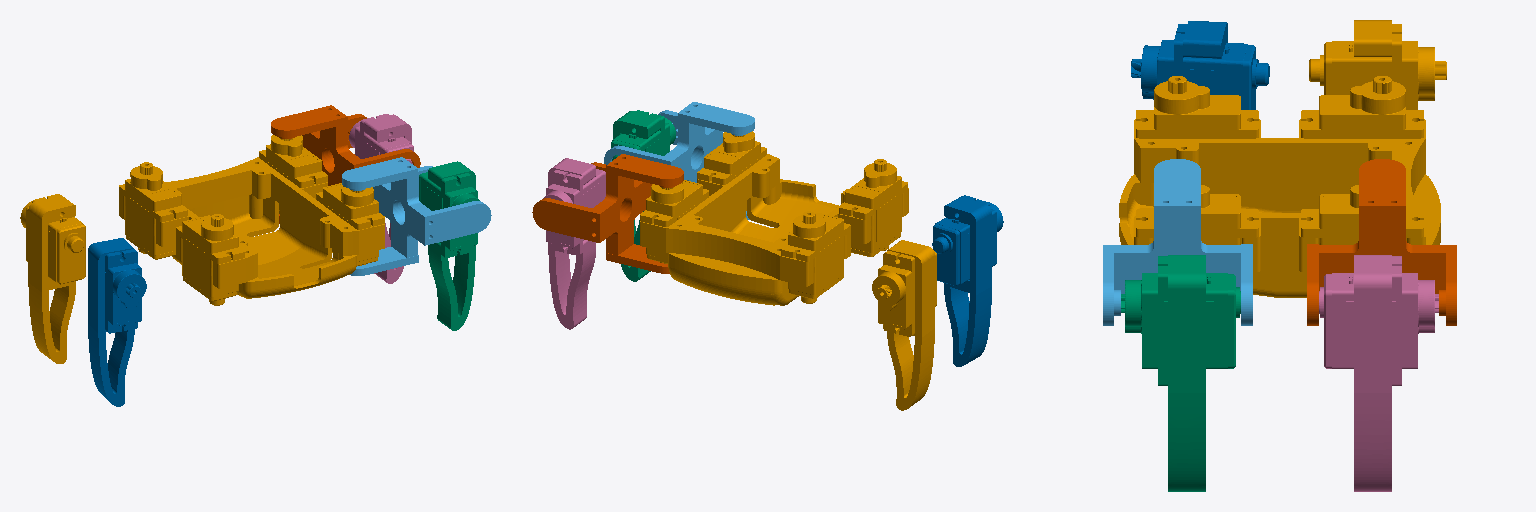
The robot description file, URDF, robot "Q1_Assembly":
<?xml version='1.0' encoding='utf-8'?>
<robot name="Q1_Assembly">
    <link name="BASE">
        <inertial>
            <origin xyz="-8.142039538314067e-06 0.005027753135309843 -0.0012258414928178138" rpy="0.0 0.0 0.0" />
            <mass value="0.27483386601342913" />
            <inertia ixx="0.00019667744361528635" iyy="0.00015923006178420186" izz="0.0003205202039226309" ixy="-2.8545823430699905e-08" iyz="2.25087085369254e-06" ixz="-2.749114205790904e-08" />
        </inertial>
        <visual name="BASE_visual">
            <origin xyz="0.0 0.0 0.0" rpy="0.0 0.0 0.0" />
            <geometry>
                <mesh filename="meshes/BASE.stl" scale="0.001 0.001 0.001" />
            </geometry>
        </visual>
        <collision name="BASE_collision">
            <origin xyz="0.0 0.0 0.0" rpy="0.0 0.0 0.0" />
            <geometry>
                <mesh filename="meshes/BASE.stl" scale="0.001 0.001 0.001" />
            </geometry>
        </collision>
    </link>
    <link name="Coxa_BR">
        <inertial>
            <origin xyz="0.02050000073221039 0.0002393924791529889 -0.01693939179571231" rpy="0.0 -0.0 0.0" />
            <mass value="0.047892817105117814" />
            <inertia ixx="1.1764660182482904e-05" iyy="1.0604749155641109e-05" izz="1.0604749159656208e-05" ixy="-8.996533003376888e-08" iyz="-2.7712823225421935e-08" ixz="-8.99653297365789e-08" />
        </inertial>
        <visual name="Coxa_BR_visual">
            <origin xyz="4.768371919539049e-10 5.364417798858767e-10 0.0017999999999999882" rpy="1.5707963267948966 4.926093753779693e-32 3.141592653589793" />
            <geometry>
                <mesh filename="meshes/Coxa_BR.stl" scale="0.001 0.001 0.001" />
            </geometry>
        </visual>
        <collision name="Coxa_BR_collision">
            <origin xyz="4.768371919539049e-10 5.364417798858767e-10 0.0017999999999999882" rpy="1.5707963267948966 4.926093753779693e-32 3.141592653589793" />
            <geometry>
                <mesh filename="meshes/Coxa_BR.stl" scale="0.001 0.001 0.001" />
            </geometry>
        </collision>
    </link>
    <link name="Tibia_BR">
        <inertial>
            <origin xyz="0.0018752835833395576 0.020144934951877448 -0.015633182600098446" rpy="0.0 -0.0 0.0" />
            <mass value="0.04581820933556819" />
            <inertia ixx="1.649246618664236e-05" iyy="1.5863336139806223e-05" izz="2.3773630277891663e-06" ixy="9.170628425002108e-08" iyz="-5.016123823149885e-07" ixz="6.348479894365444e-08" />
        </inertial>
        <visual name="Tibia_BR_visual">
            <origin xyz="-9.999865520774699e-05 0.029850000683366226 -0.0052499998530756795" rpy="1.5707963267948966 5.551115123125775e-17 3.141592653589793" />
            <geometry>
                <mesh filename="meshes/Tibia_BR.stl" scale="0.001 0.001 0.001" />
            </geometry>
        </visual>
        <collision name="Tibia_BR_collision">
            <origin xyz="-9.999865520774699e-05 0.029850000683366226 -0.0052499998530756795" rpy="1.5707963267948966 5.551115123125775e-17 3.141592653589793" />
            <geometry>
                <mesh filename="meshes/Tibia_BR.stl" scale="0.001 0.001 0.001" />
            </geometry>
        </collision>
    </link>
    <link name="Coxa_BL">
        <inertial>
            <origin xyz="-0.02033894158090716 0.0025758098731509583 -0.016939391795711557" rpy="0.0 -0.0 0.0" />
            <mass value="0.04789281710523348" />
            <inertia ixx="1.1769960141223606e-05" iyy="1.059944919696402e-05" izz="1.0604749159717736e-05" ixy="-4.379715174816117e-08" iyz="-3.7792349891890086e-08" ixz="8.62177442029365e-08" />
        </inertial>
        <visual name="Coxa_BL_visual">
            <origin xyz="-4.768372008356891e-10 5.364417887676609e-10 0.0017999999999999971" rpy="1.5707963267948966 6.083281527479571e-17 -0.11429646531300272" />
            <geometry>
                <mesh filename="meshes/Coxa_BL.stl" scale="0.001 0.001 0.001" />
            </geometry>
        </visual>
        <collision name="Coxa_BL_collision">
            <origin xyz="-4.768372008356891e-10 5.364417887676609e-10 0.0017999999999999971" rpy="1.5707963267948966 6.083281527479571e-17 -0.11429646531300272" />
            <geometry>
                <mesh filename="meshes/Coxa_BL.stl" scale="0.001 0.001 0.001" />
            </geometry>
        </collision>
    </link>
    <link name="Tibia_BL">
        <inertial>
            <origin xyz="0.00043435183495639686 -0.02022665584739664 0.015633182965208096" rpy="0.0 -0.0 0" />
            <mass value="0.04581820334543465" />
            <inertia ixx="1.6463546440736072e-05" iyy="1.5892320764739737e-05" izz="2.3774279507951016e-06" ixy="1.6069452787727893e-07" iyz="-4.918270163633177e-07" ixz="1.203619487287119e-07" />
        </inertial>
        <visual name="Tibia_BL_visual">
            <origin xyz="0.003503668474676722 -0.029643834428722805 0.005249999853075686" rpy="-1.5707963267948966 -6.184207437060503e-17 0.1142964653130028" />
            <geometry>
                <mesh filename="meshes/Tibia_BL.stl" scale="0.001 0.001 0.001" />
            </geometry>
        </visual>
        <collision name="Tibia_BL_collision">
            <origin xyz="0.003503668474676722 -0.029643834428722805 0.005249999853075686" rpy="-1.5707963267948966 -6.184207437060503e-17 0.1142964653130028" />
            <geometry>
                <mesh filename="meshes/Tibia_BL.stl" scale="0.001 0.001 0.001" />
            </geometry>
        </collision>
    </link>
    <link name="Coxa_FR">
        <inertial>
            <origin xyz="0.0205000007322443 -0.00023939158503928583 -0.016939391795711564" rpy="0.0 -0.0 0.0" />
            <mass value="0.04789281710523348" />
            <inertia ixx="1.17646601825226e-05" iyy="1.0604749155665043e-05" izz="1.0604749159717736e-05" ixy="8.996533000411595e-08" iyz="2.7712823224776496e-08" ixz="-8.996532973710406e-08" />
        </inertial>
        <visual name="Coxa_FR_visual">
            <origin xyz="4.768371875130129e-10 3.576278917449827e-10 0.0017999999999999882" rpy="1.5707963267948966 4.926093753779693e-32 3.141592653589793" />
            <geometry>
                <mesh filename="meshes/Coxa_FR.stl" scale="0.001 0.001 0.001" />
            </geometry>
        </visual>
        <collision name="Coxa_FR_collision">
            <origin xyz="4.768371875130129e-10 3.576278917449827e-10 0.0017999999999999882" rpy="1.5707963267948966 4.926093753779693e-32 3.141592653589793" />
            <geometry>
                <mesh filename="meshes/Coxa_FR.stl" scale="0.001 0.001 0.001" />
            </geometry>
        </collision>
    </link>
    <link name="Tibia_FR">
        <inertial>
            <origin xyz="0.0018752832730033386 0.02014493314118619 0.01563318296537" rpy="0.0 -0.0 0.0" />
            <mass value="0.04581820334568161" />
            <inertia ixx="1.6492465856071686e-05" iyy="1.5863336086785213e-05" izz="2.3773626877260107e-06" ixy="9.170638508137878e-08" iyz="5.016122672263485e-07" ixz="-6.348484355831295e-08" />
        </inertial>
        <visual name="Tibia_FR_visual">
            <origin xyz="-9.999865520770257e-05 0.02984999978929659 0.005249999853075683" rpy="-1.5707963267948966 -5.551115123125775e-17 -3.141592653589793" />
            <geometry>
                <mesh filename="meshes/Tibia_FR.stl" scale="0.001 0.001 0.001" />
            </geometry>
        </visual>
        <collision name="Tibia_FR_collision">
            <origin xyz="-9.999865520770257e-05 0.02984999978929659 0.005249999853075683" rpy="-1.5707963267948966 -5.551115123125775e-17 -3.141592653589793" />
            <geometry>
                <mesh filename="meshes/Tibia_FR.stl" scale="0.001 0.001 0.001" />
            </geometry>
        </collision>
    </link>
    <link name="Coxa_FL">
        <inertial>
            <origin xyz="-0.020500000732210363 -0.0002393915850833306 -0.01693939179571231" rpy="0.0 -0.0 0.0" />
            <mass value="0.047892817105117814" />
            <inertia ixx="1.1764660182482898e-05" iyy="1.0604749155641163e-05" izz="1.0604749159656343e-05" ixy="-8.996533003374177e-08" iyz="2.771282322542024e-08" ixz="8.996532973658568e-08" />
        </inertial>
        <visual name="Coxa_FL_visual">
            <origin xyz="-4.768371875130129e-10 3.576278873040906e-10 0.0017999999999999882" rpy="1.5707963267948966 4.9260937537796953e-32 0.0" />
            <geometry>
                <mesh filename="meshes/Coxa_FL.stl" scale="0.001 0.001 0.001" />
            </geometry>
        </visual>
        <collision name="Coxa_FL_collision">
            <origin xyz="-4.768371875130129e-10 3.576278873040906e-10 0.0017999999999999882" rpy="1.5707963267948966 4.9260937537796953e-32 0.0" />
            <geometry>
                <mesh filename="meshes/Coxa_FL.stl" scale="0.001 0.001 0.001" />
            </geometry>
        </collision>
    </link>
    <link name="Tibia_FL">
        <inertial>
            <origin xyz="-0.0018752835833680949 -0.02014421797756295 -0.015633182600260368" rpy="0.0 -0.0 0.0" />
            <mass value="0.04581820933581591" />
            <inertia ixx="1.6492531449988316e-05" iyy="1.586333614003385e-05" izz="2.377428290911926e-06" ixy="9.179220457102282e-08" iyz="5.023451035155204e-07" ixz="-6.348479898890633e-08" />
        </inertial>
        <visual name="Tibia_FL_visual">
            <origin xyz="9.999865520771145e-05 -0.0298499997892966 -0.005249999853075693" rpy="1.5707963267948966 2.7755575615628883e-17 -1.6491588421666554e-16" />
            <geometry>
                <mesh filename="meshes/Tibia_FL.stl" scale="0.001 0.001 0.001" />
            </geometry>
        </visual>
        <collision name="Tibia_FL_collision">
            <origin xyz="9.999865520771145e-05 -0.0298499997892966 -0.005249999853075693" rpy="1.5707963267948966 2.7755575615628883e-17 -1.6491588421666554e-16" />
            <geometry>
                <mesh filename="meshes/Tibia_FL.stl" scale="0.001 0.001 0.001" />
            </geometry>
        </collision>
    </link>
    <joint name="BASE_Revolute-1" type="continuous">
        <origin xyz="-0.0305 -0.02665 0.02415" rpy="0.0 -0.0 0.0" />
        <parent link="BASE" />
        <child link="Coxa_BL" />
        <axis xyz="0.0 0.0 1.0" />
    </joint>
    <joint name="BASE_Revolute-3" type="continuous">
        <origin xyz="0.0305 0.02665 0.02415" rpy="0.0 -0.0 0.0" />
        <parent link="BASE" />
        <child link="Coxa_FR" />
        <axis xyz="0.0 0.0 1.0" />
    </joint>
    <joint name="Coxa_FR_Revolute-4" type="continuous">
        <origin xyz="0.04100000000000001 0.0167 -0.0167" rpy="3.141592653589793 4.3674786495750664e-63 0.0" />
        <parent link="Coxa_FR" />
        <child link="Tibia_FR" />
        <axis xyz="0.0 1.0 0.0" />
    </joint>
    <joint name="BASE_Revolute-5" type="continuous">
        <origin xyz="-0.0305 0.02665 0.02415" rpy="0.0 -0.0 0.0" />
        <parent link="BASE" />
        <child link="Coxa_FL" />
        <axis xyz="0.0 0.0 1.0" />
    </joint>
    <joint name="Coxa_FL_Revolute-6" type="continuous">
        <origin xyz="-0.04100000000000001 0.0167 -0.0167" rpy="0.0 -0.0 5.473822126268817e-48" />
        <parent link="Coxa_FL" />
        <child link="Tibia_FL" />
        <axis xyz="-5.473822126268817e-48 -1.0 -1.0947644252537633e-47" />
    </joint>
    <joint name="BASE_Revolute-7" type="continuous">
        <origin xyz="0.0305 -0.02665 0.02415" rpy="0.0 -0.0 0.0" />
        <parent link="BASE" />
        <child link="Coxa_BR" />
        <axis xyz="0.0 0.0 1.0" />
    </joint>
    <joint name="Coxa_BR_Revolute-8" type="continuous">
        <origin xyz="0.04100000000000001 -0.0167 -0.0167" rpy="0.0 -4.3674786495750664e-63 0.0" />
        <parent link="Coxa_BR" />
        <child link="Tibia_BR" />
        <axis xyz="0.0 1.0 0.0" />
    </joint>
    <joint name="Coxa_BL_Revolute-21" type="continuous">
        <origin xyz="-0.04263708 -0.011915079999999998 -0.0167" rpy="3.141592653589793 4.248206103071622e-34 -1.2325951644078312e-32" />
        <parent link="Coxa_BL" />
        <child link="Tibia_BL" />
        <axis xyz="0.11404799999999998 -0.993475 -5.51489409694743e-17" />
    </joint>
</robot>

--- What the picture shows (computed from the rendered views, not written in the file) ---
The picture shows the robot from 3 angles, left to right: view 1: azimuth 30°, elevation 25°; view 2: azimuth 150°, elevation 25°; view 3: azimuth 270°, elevation 25°; orthographic projection.
Model Q1_Assembly with 9 links and 8 joints (8 continuous), rooted at BASE, posed all joints at 0.
Links seen in each view (by area): view 1: BASE, Tibia_FL, Coxa_BR, Tibia_BL, Tibia_BR, Coxa_FR, Tibia_FR; view 2: BASE, Tibia_BL, Tibia_FL, Coxa_FR, Tibia_FR, Coxa_BR, Tibia_BR; view 3: BASE, Tibia_BR, Tibia_FR, Coxa_BR, Coxa_FR, Tibia_BL, Tibia_FL.
Link boxes in pixels (bbox=[...]): BASE: bbox=[119, 135, 384, 305]; Tibia_FL: bbox=[20, 194, 85, 363]; Coxa_BR: bbox=[342, 157, 491, 275]; Tibia_BL: bbox=[88, 238, 146, 406]; Tibia_BR: bbox=[419, 161, 479, 330]; Coxa_FR: bbox=[271, 105, 420, 223]; Tibia_FR: bbox=[349, 114, 413, 283]; BASE: bbox=[640, 131, 908, 305]; Tibia_BL: bbox=[932, 195, 1003, 366]; Tibia_FL: bbox=[872, 240, 936, 410]; Coxa_FR: bbox=[532, 154, 683, 273]; Tibia_FR: bbox=[543, 158, 605, 329]; Coxa_BR: bbox=[604, 102, 754, 219]; Tibia_BR: bbox=[611, 110, 675, 281]; BASE: bbox=[1119, 76, 1440, 297]; Tibia_BR: bbox=[1121, 255, 1240, 491]; Tibia_FR: bbox=[1319, 255, 1438, 491]; Coxa_BR: bbox=[1103, 159, 1252, 325]; Coxa_FR: bbox=[1307, 159, 1456, 325]; Tibia_BL: bbox=[1131, 21, 1269, 109]; Tibia_FL: bbox=[1309, 20, 1446, 109].
Bounding box of the posed robot: 0.161 × 0.0923 × 0.0731 m (x, y, z).
Meshes: 9 distinct files referenced, 7 mesh visuals loaded (7 binary STL); not drawn: 2 (reference not matched to a file when rendering).
